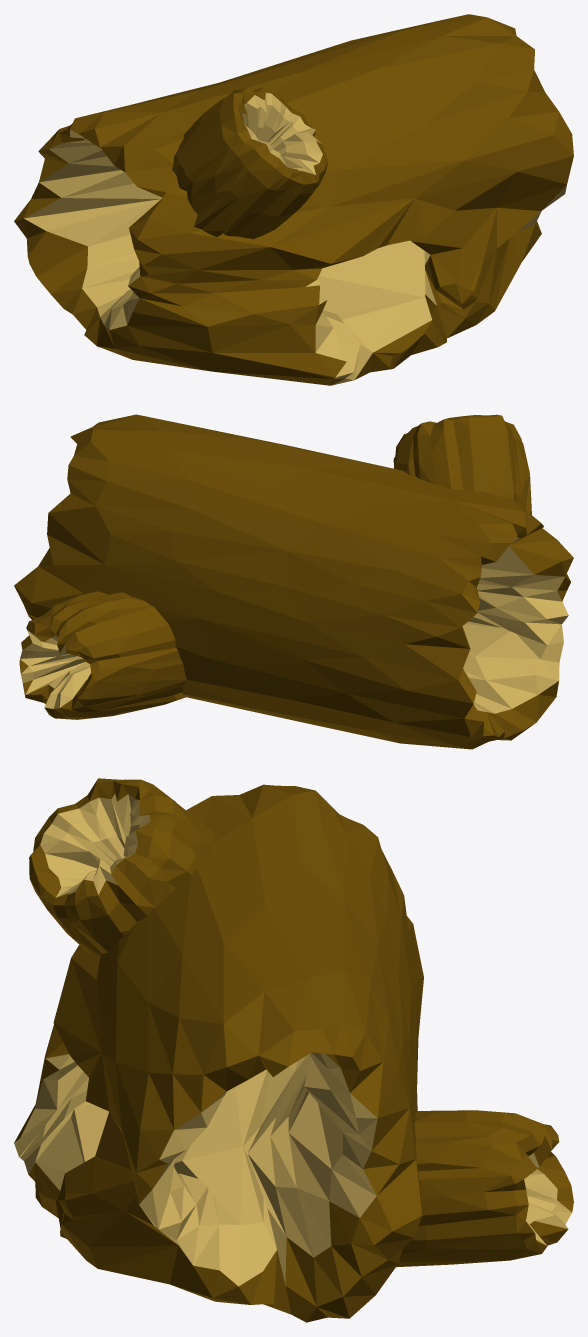
The model's file is Ant Exit.fbx.
3 views of the same model, one above another, from view 1: azimuth 30°, elevation 25°; view 2: azimuth 150°, elevation 25°; view 3: azimuth 270°, elevation 25° (orthographic). The views are drawn at different scales.
Parts seen in each view (by area): view 1: MainLog Out, MainLog In, TopBranch Out, TopBranch In; view 2: MainLog Out, BotBranch Out, MainLog In, TopBranch Out, BotBranch In; view 3: MainLog Out, MainLog In, BotBranch Out, TopBranch Out, TopBranch In, BotBranch In.
Boxes of the visible parts, x1,y1,x2,y2 form: MainLog Out: (14,14,573,385); MainLog In: (24,130,566,385); TopBranch Out: (172,87,327,239); TopBranch In: (242,93,322,174); MainLog Out: (14,414,573,749); BotBranch Out: (19,591,187,719); MainLog In: (462,537,568,713); TopBranch Out: (393,414,531,514); BotBranch In: (20,630,90,708); MainLog Out: (14,784,423,1322); MainLog In: (14,1052,377,1286); BotBranch Out: (396,1110,573,1267); TopBranch Out: (29,778,214,957); TopBranch In: (40,794,150,897); BotBranch In: (524,1152,571,1245).
Bounding box in the file's own units: 923 × 540 × 746.
